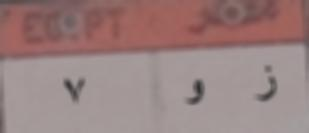7: (58, 72, 90, 107)
waw: (182, 76, 207, 111)
zay: (251, 62, 280, 107)
